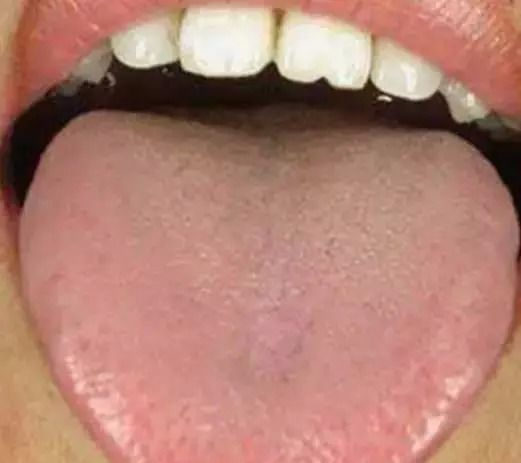baitaishe: (19, 111, 519, 463)
